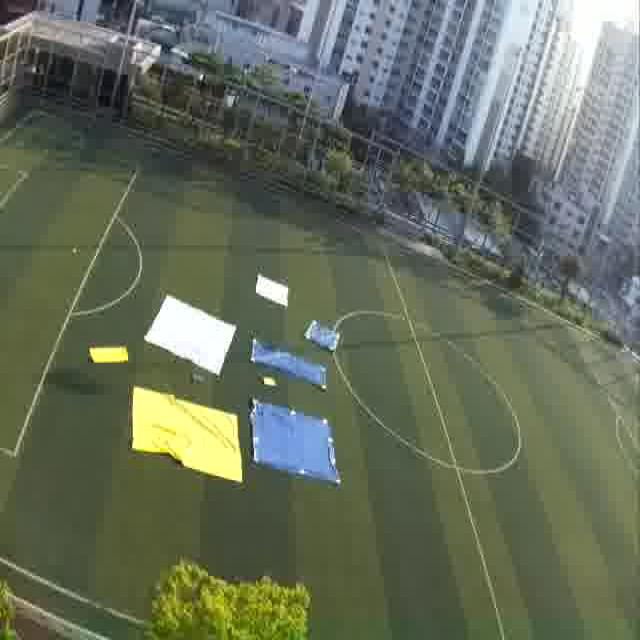danger: (248, 396, 343, 488), (250, 335, 300, 375), (304, 310, 342, 354)
safety: (139, 289, 239, 377), (248, 269, 297, 320)
warning: (129, 388, 245, 484), (85, 341, 130, 369)
